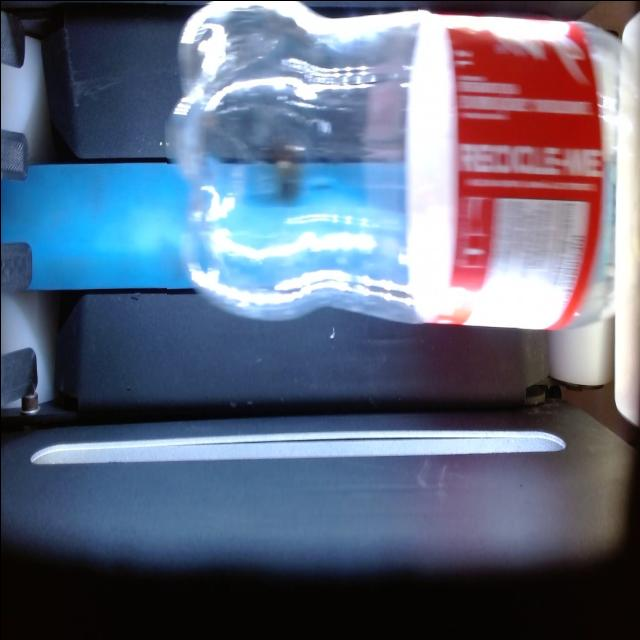bottom: (166, 3, 416, 320)
label: (406, 16, 601, 326)
neck: (567, 17, 640, 330)
